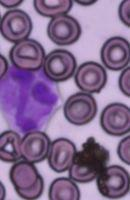E: (0, 66, 62, 136)
